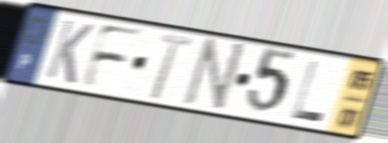5: (244, 46, 300, 120)
F: (77, 22, 146, 92)
K: (43, 17, 96, 87)
L: (289, 58, 327, 125)
N: (180, 36, 249, 115)
T: (148, 30, 195, 102)
